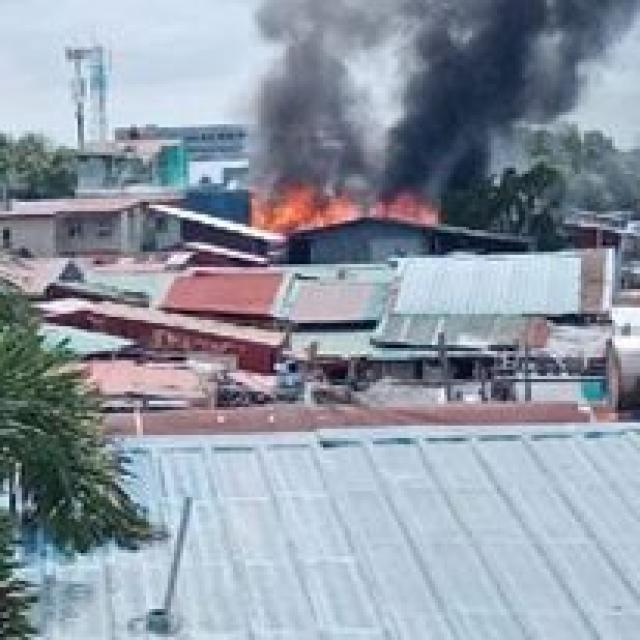Fire: (254, 194, 447, 226)
Smoke: (402, 0, 634, 101), (386, 108, 511, 192)
